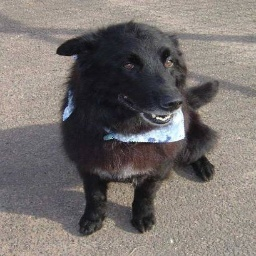dog: (50, 19, 225, 240)
